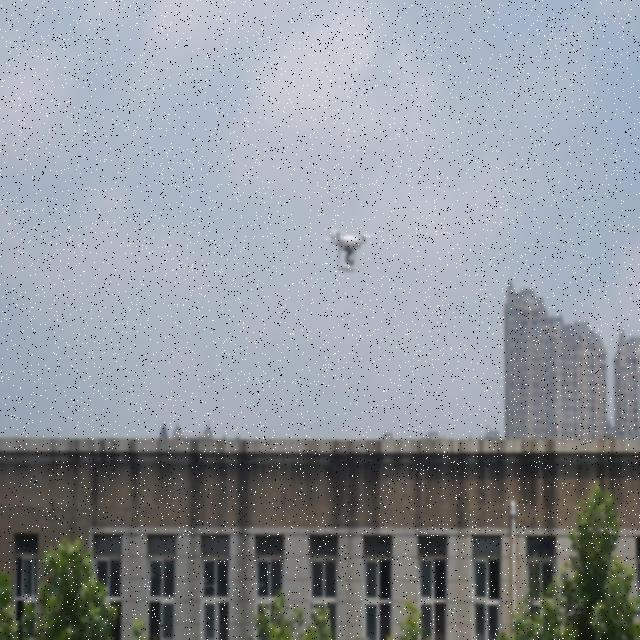UAV: (322, 228, 374, 272)
